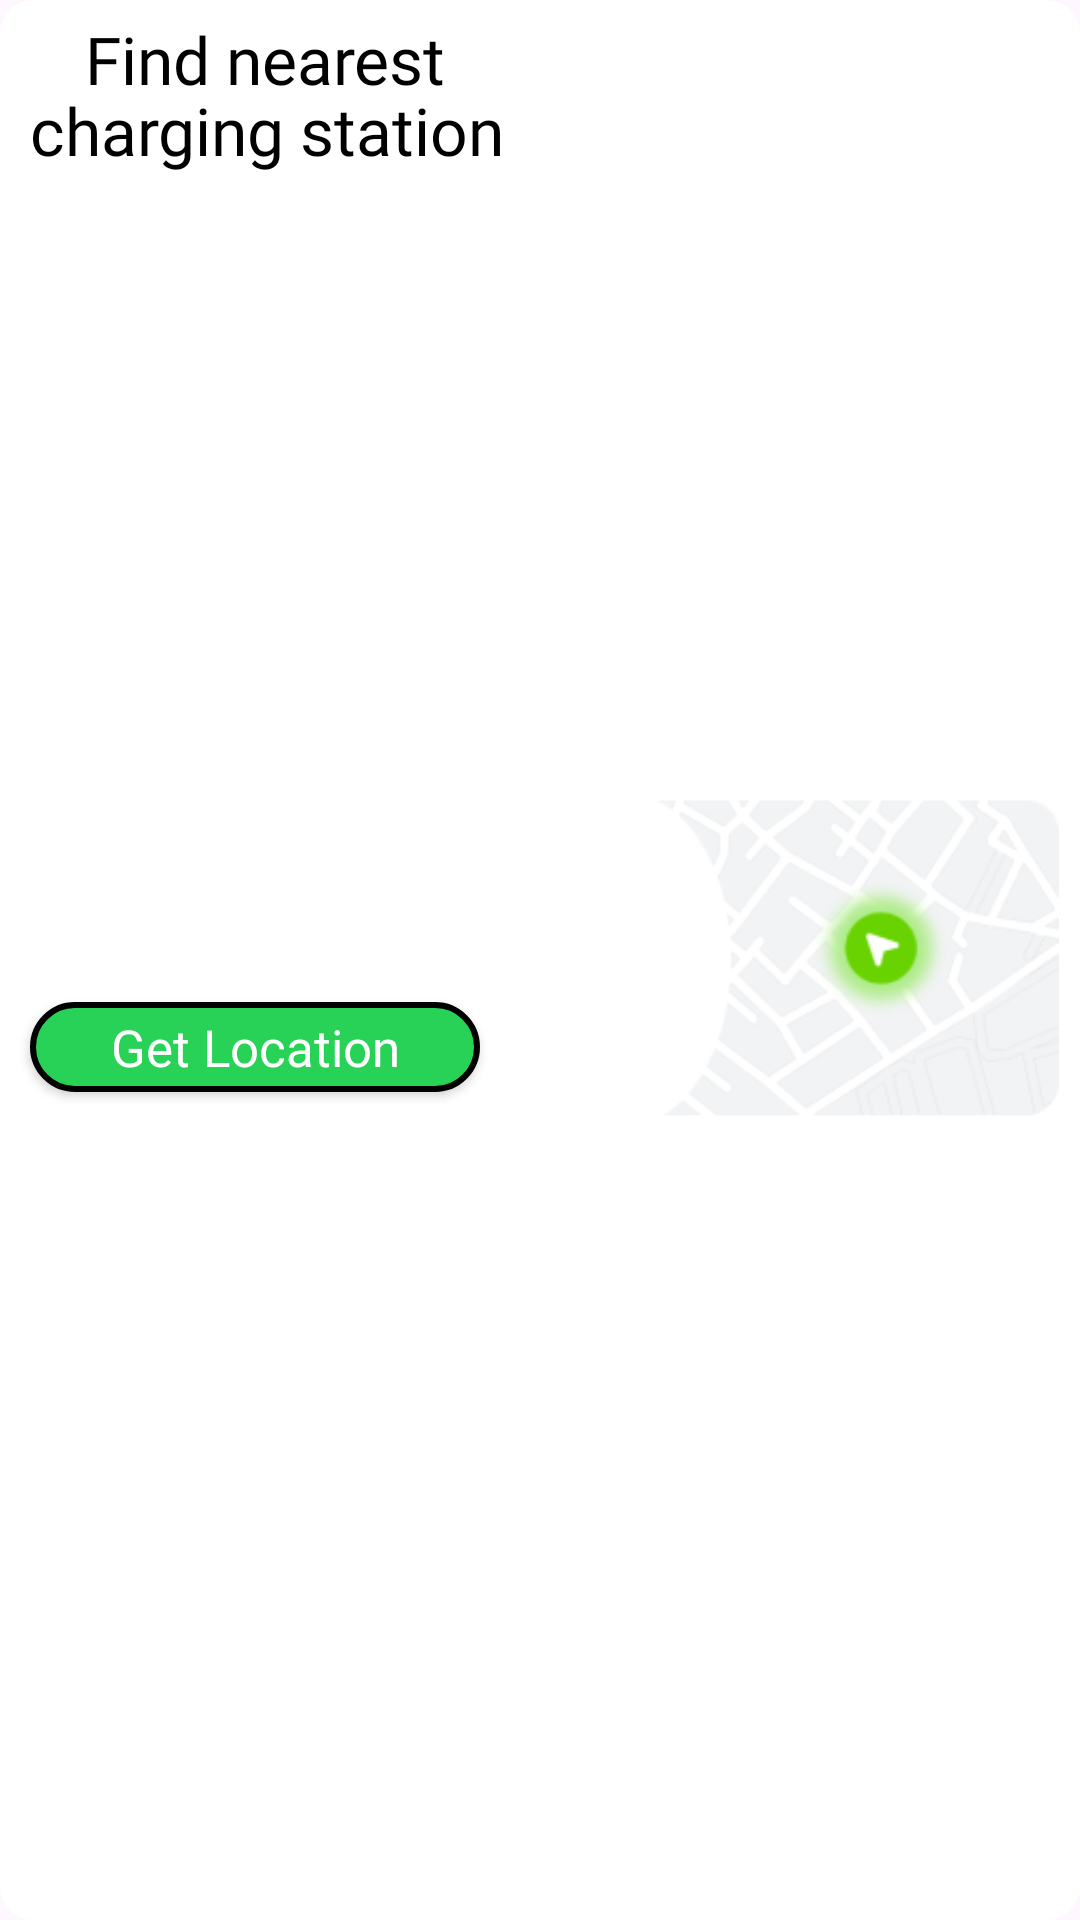

Named icons in this screenshot (1080 x 1920) and their centers, point (x, y):
map cutpiece: point (881, 948)
